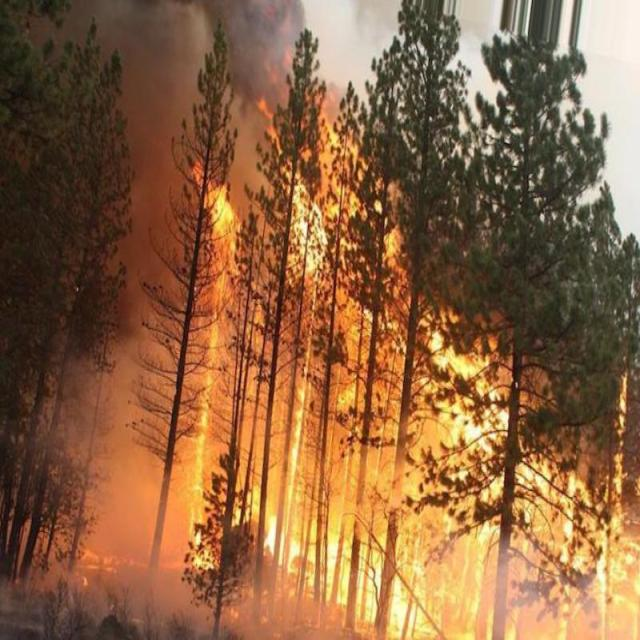fire: (275, 112, 406, 614), (425, 326, 633, 634), (193, 139, 231, 569)
